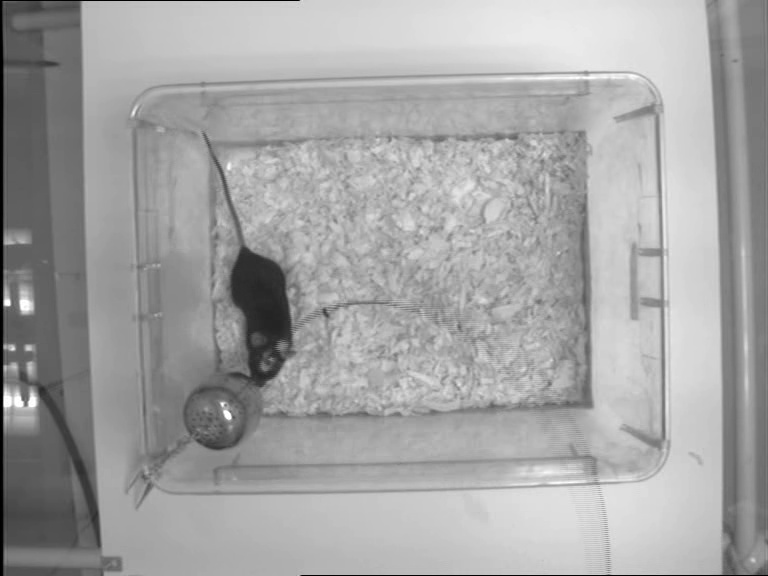mice: (202, 127, 295, 388)
